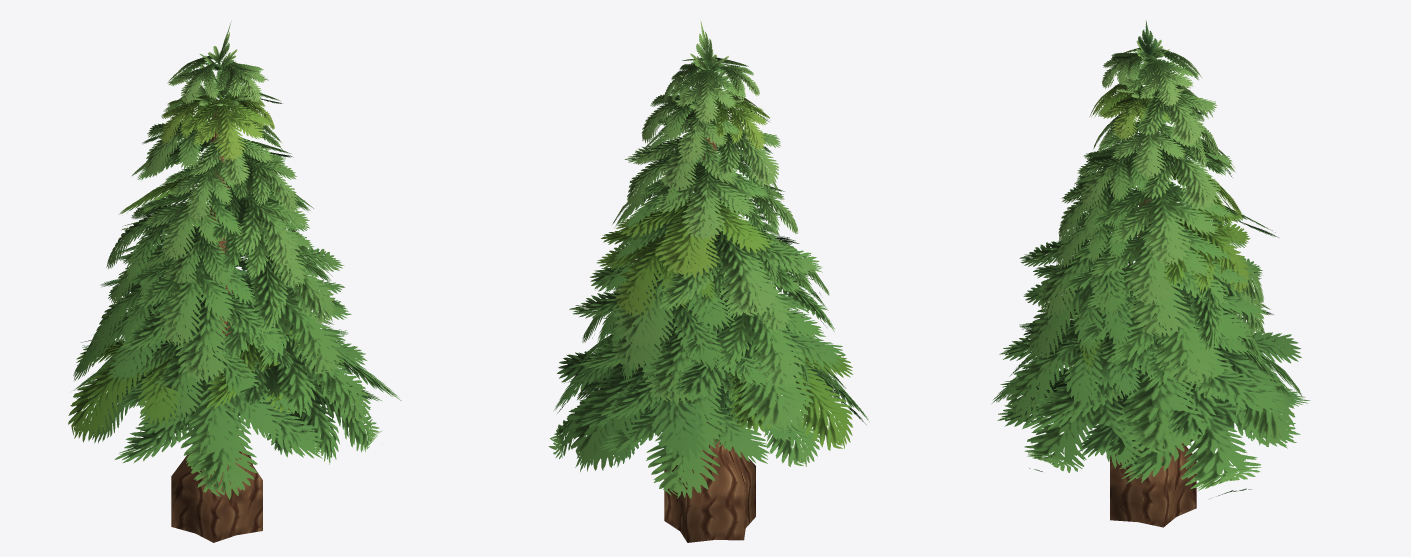
The model's file is pine_v2.glb.
3 renders of one model, left to right at view 1: azimuth 30°, elevation 25°; view 2: azimuth 150°, elevation 25°; view 3: azimuth 270°, elevation 25°, orthographic.
Parts seen in each view (by area): view 1: pine_v2_leaves_LOD0, pine_v2_trunk_LOD0; view 2: pine_v2_leaves_LOD0, pine_v2_trunk_LOD0; view 3: pine_v2_leaves_LOD0, pine_v2_trunk_LOD0.
Part boxes in pixels (x1,y1,x2,y2): pine_v2_leaves_LOD0: [68, 21, 401, 499]; pine_v2_trunk_LOD0: [171, 110, 262, 542]; pine_v2_leaves_LOD0: [548, 20, 869, 498]; pine_v2_trunk_LOD0: [664, 133, 755, 542]; pine_v2_leaves_LOD0: [992, 20, 1310, 498]; pine_v2_trunk_LOD0: [1110, 129, 1196, 527].
Size of what is drawn, in the model's own units: 11.36 by 14.4 by 12.22.
Materials: 2 (2 with a texture image).
